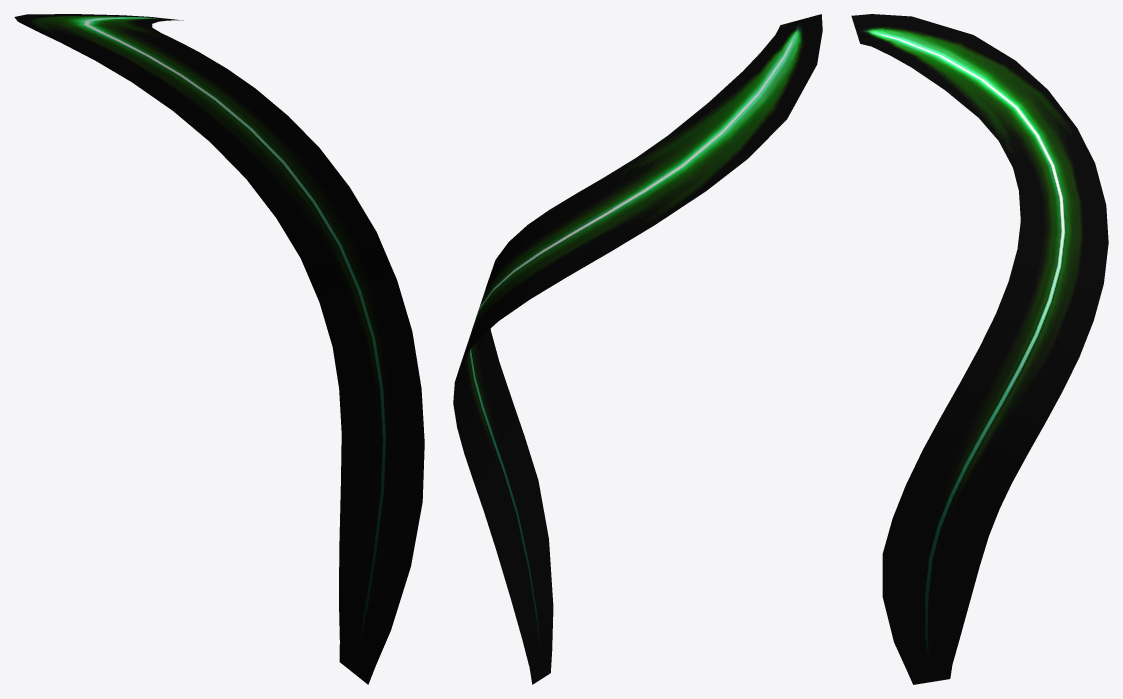
Rendered from M_luoxuan_trail001.FBX.
The picture shows the model from 3 angles, left to right: view 1: azimuth 30°, elevation 25°; view 2: azimuth 150°, elevation 25°; view 3: azimuth 270°, elevation 25°; orthographic projection. The views are drawn at different scales.
Visible parts, largest first — view 1: Plane002; view 2: Plane002; view 3: Plane002.
Part boxes in pixels (x1,y1,x2,y2): Plane002: (14,14,424,684); Plane002: (453,14,822,684); Plane002: (851,14,1108,684).
Size of the model in its own units: 37.21 by 76.98 by 31.27.
Materials: 1 (1 with a texture image).
